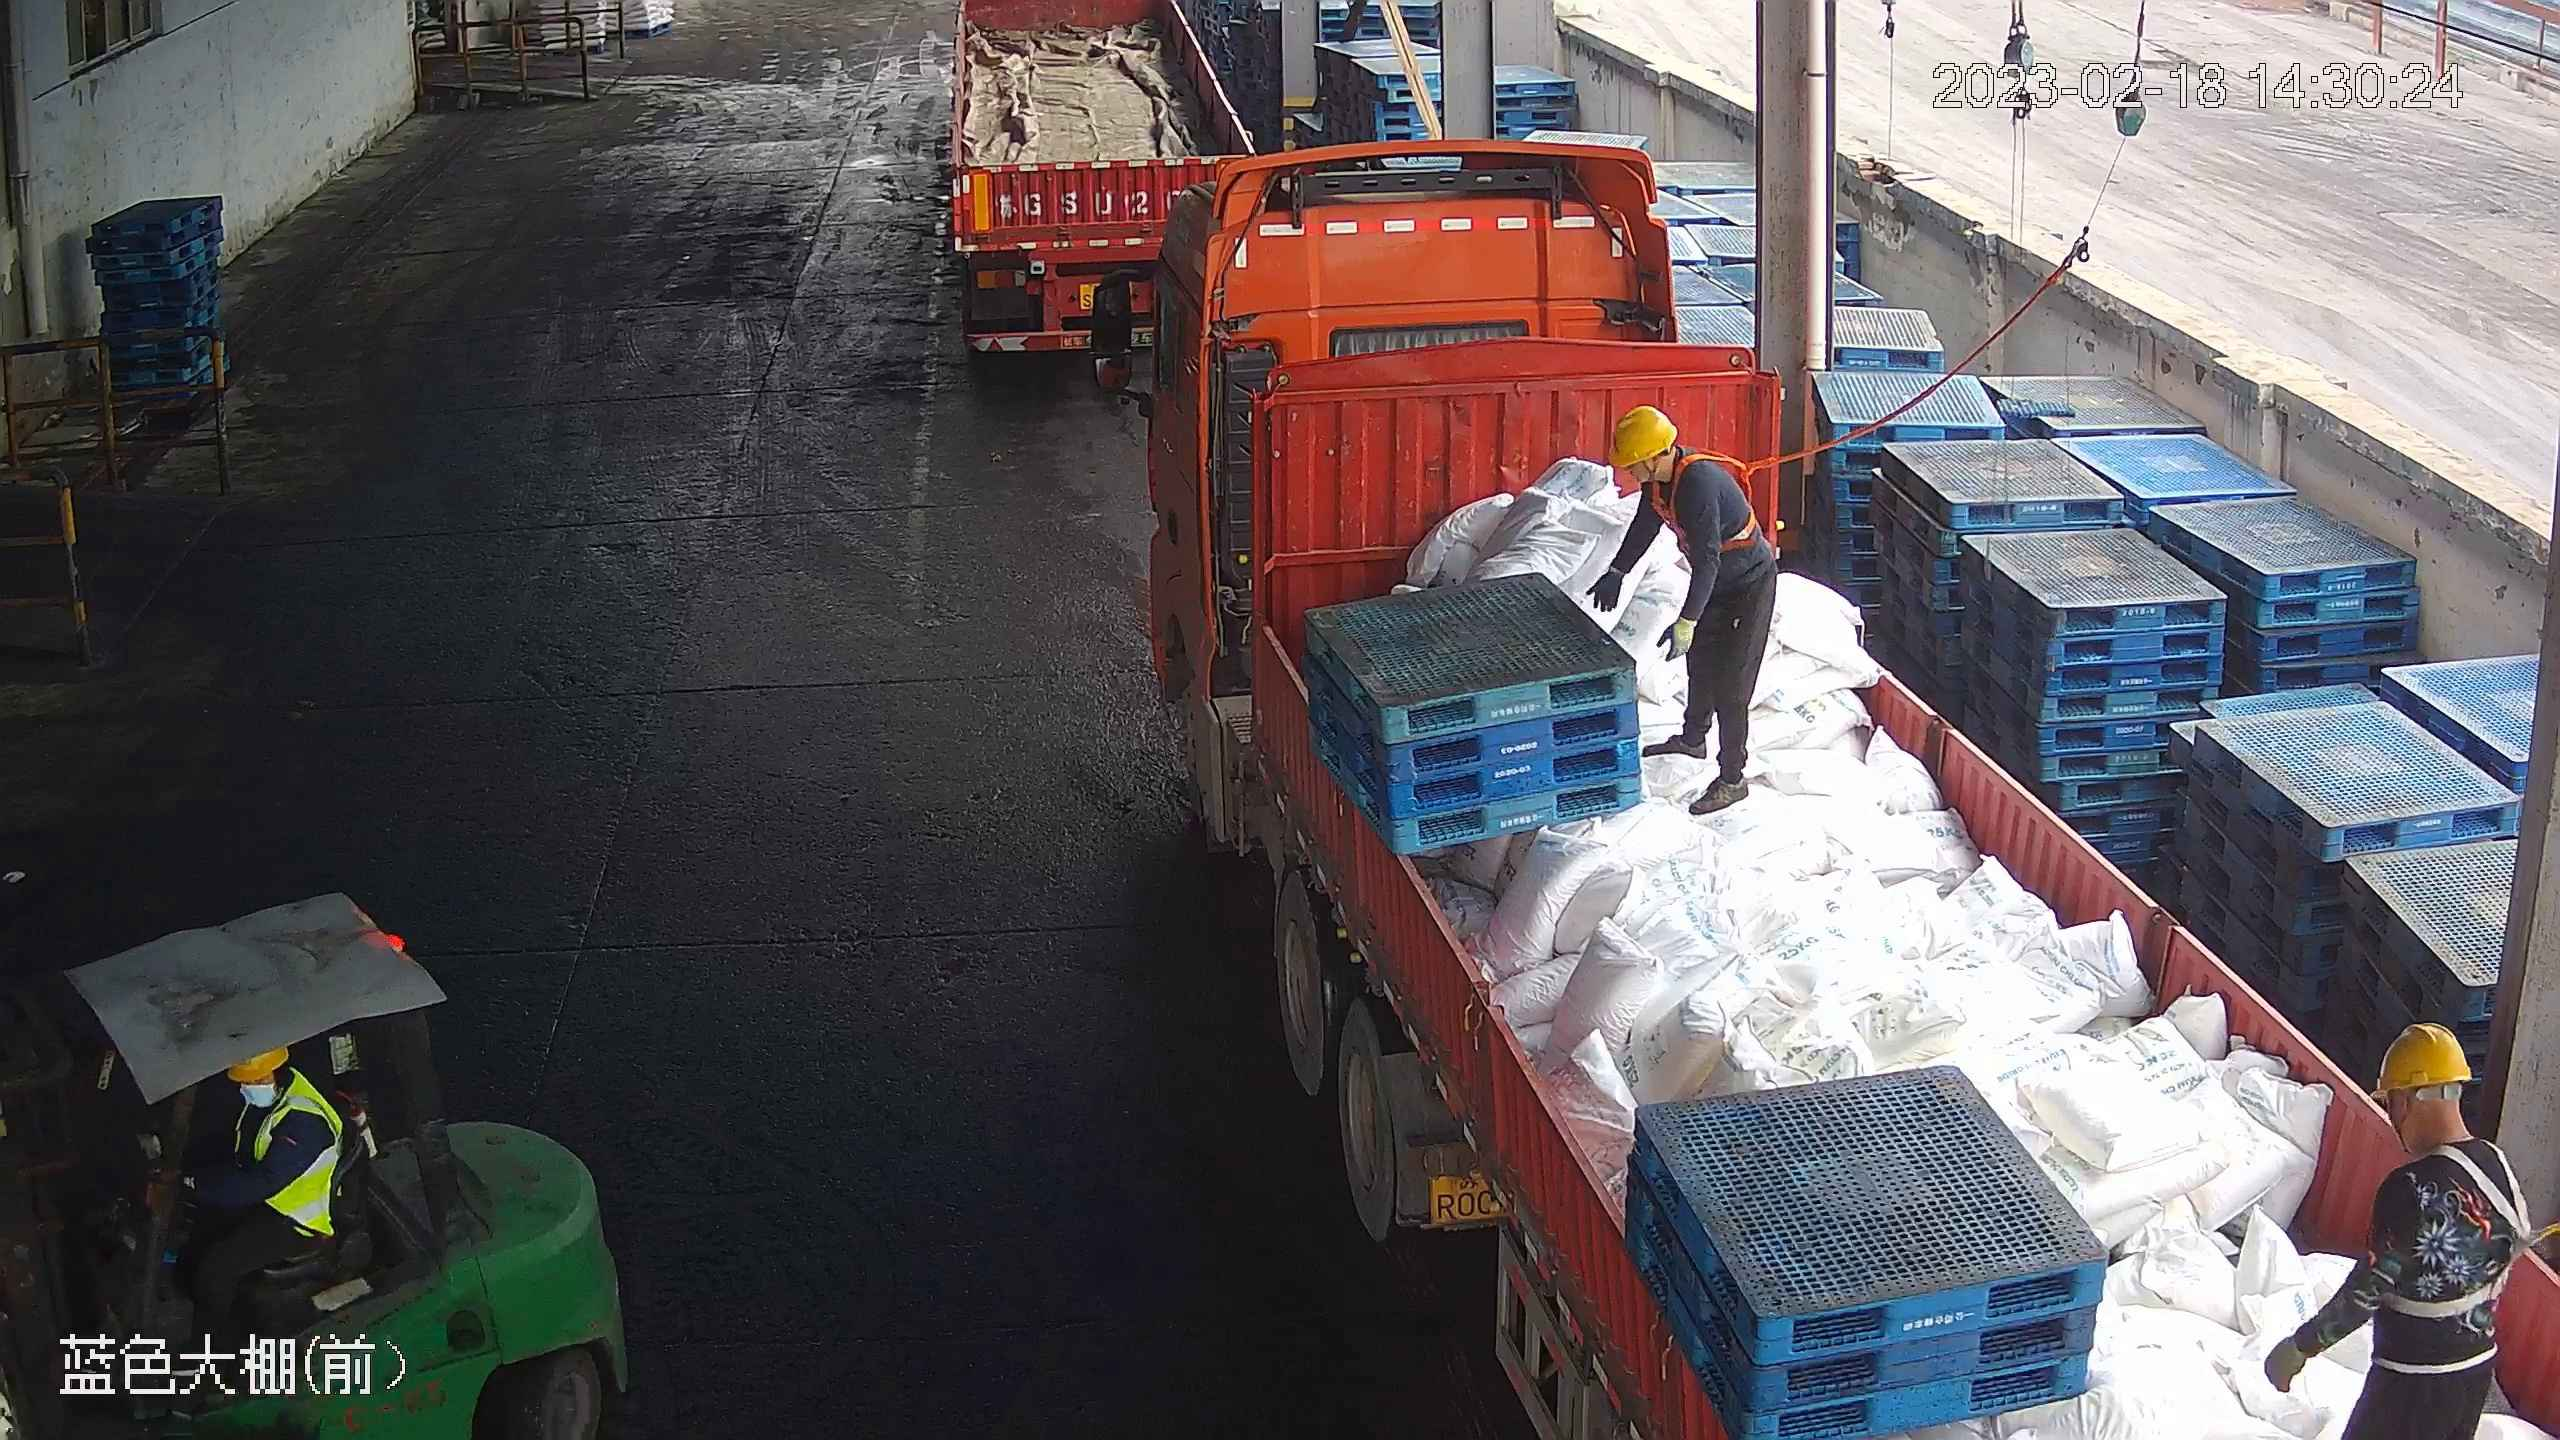belt: (2384, 1148, 2528, 1321), (1664, 441, 1773, 550)
head: (2349, 1017, 2525, 1221), (202, 1044, 341, 1173), (1609, 404, 1741, 529)
helmet: (2369, 1019, 2474, 1093), (1607, 404, 1679, 467), (221, 1051, 294, 1085)
people: (2263, 1015, 2521, 1425), (1592, 404, 1781, 810), (149, 1042, 358, 1378)
truck: (1081, 144, 2554, 1430), (937, 1, 1269, 371)
